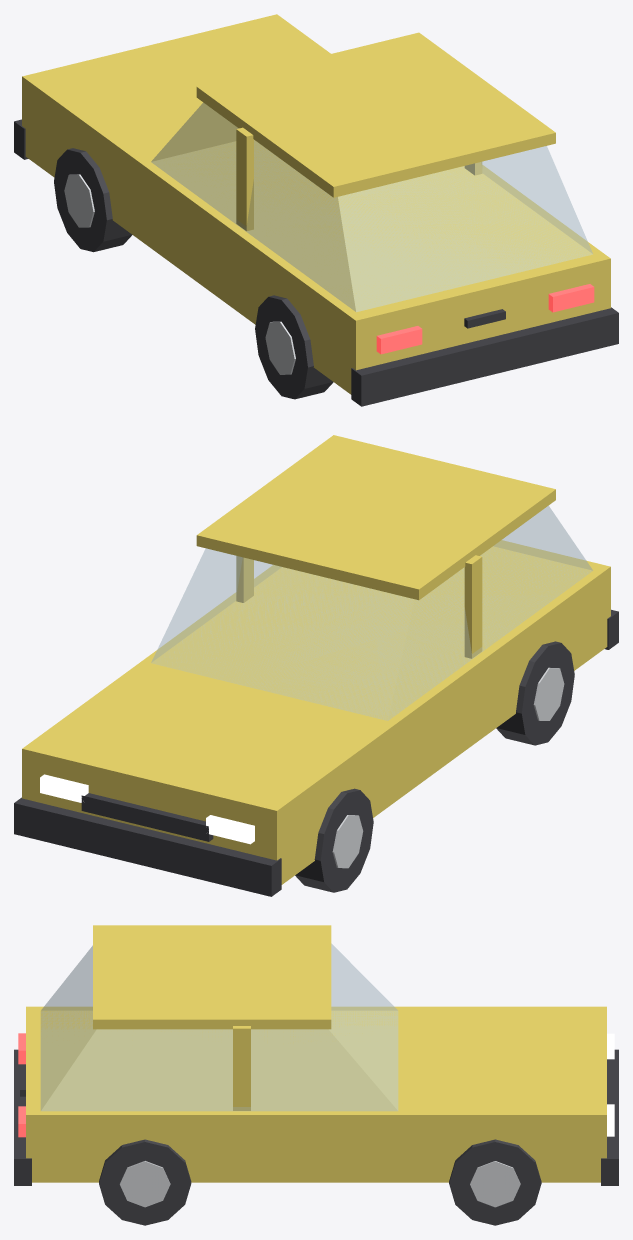
Rendered from car_hatchback_yellow.glb.
3 views of the same model, one above another, from view 1: azimuth 30°, elevation 25°; view 2: azimuth 150°, elevation 25°; view 3: azimuth 270°, elevation 25° (orthographic). The views are drawn at different scales.
Parts seen in each view (by area): view 1: body, wheel_fl, wheel_rl; view 2: body, wheel_fl, wheel_rl; view 3: body, wheel_fr, wheel_rr.
Boxes of the visible parts, left/top/right/bottom form: body: left=14, top=14, right=618, bottom=406; wheel_fl: left=54, top=148, right=132, bottom=252; wheel_rl: left=255, top=295, right=333, bottom=399; body: left=14, top=435, right=618, bottom=896; wheel_fl: left=295, top=788, right=373, bottom=892; wheel_rl: left=496, top=641, right=574, bottom=745; body: left=14, top=925, right=618, bottom=1185; wheel_fr: left=449, top=1139, right=541, bottom=1225; wheel_rr: left=99, top=1139, right=191, bottom=1225.
Size of the model in its own units: 1.82 by 1.46 by 4.06.
